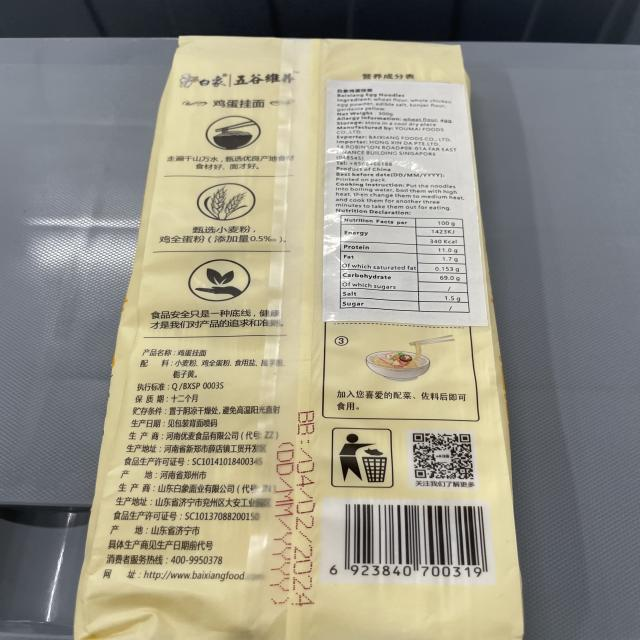object_name: (106, 35, 514, 640)
